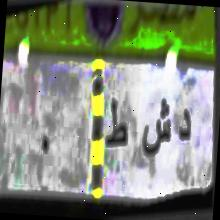0: (34, 122, 58, 176)
Taa: (100, 97, 134, 159)
daal: (174, 98, 194, 154)
sheen: (139, 96, 173, 172)
